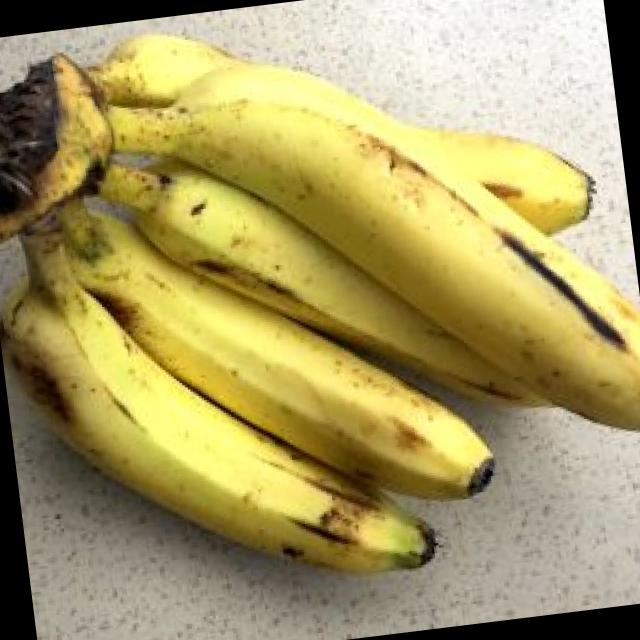banana: (31, 116, 538, 584)
